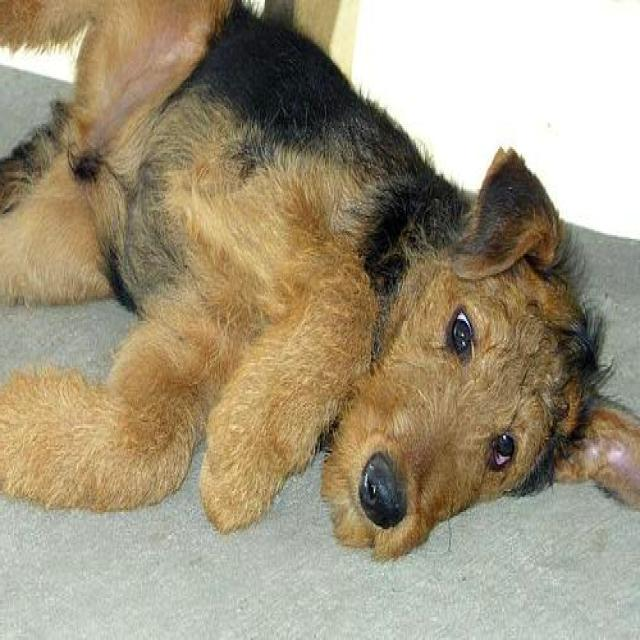airedale: (1, 2, 640, 562)
